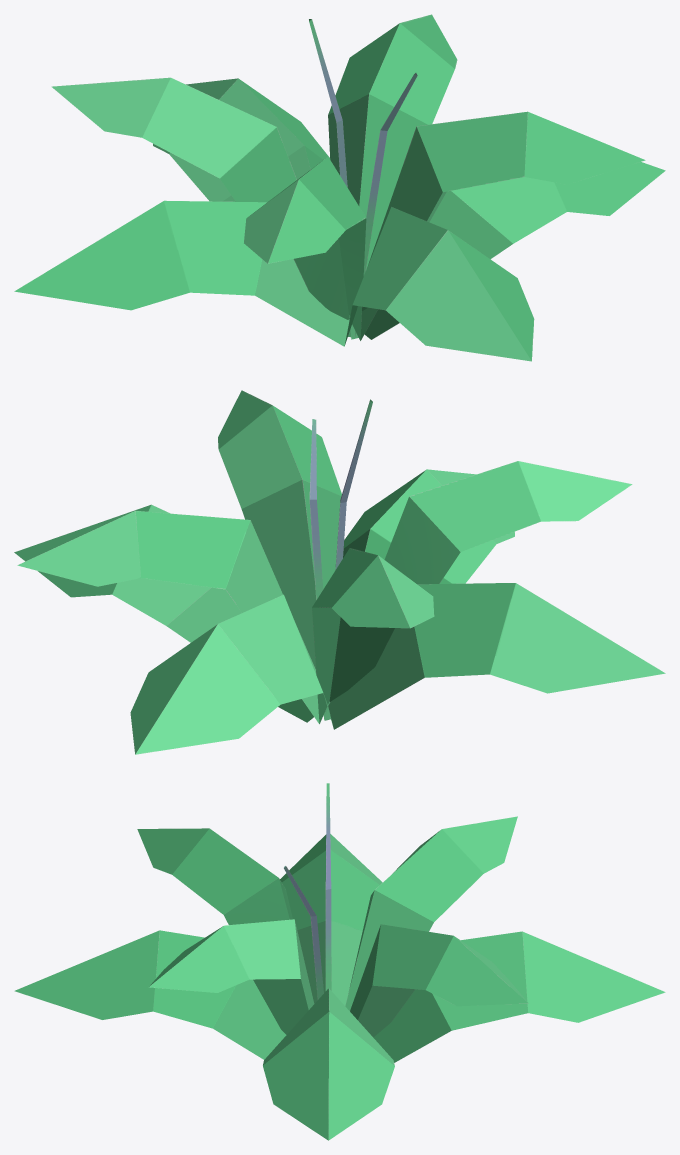
File: planta-rasteira.fbx
3 views of the same model, one above another, from view 1: azimuth 30°, elevation 25°; view 2: azimuth 150°, elevation 25°; view 3: azimuth 270°, elevation 25° (orthographic). The views are drawn at different scales.
Parts seen in each view (by area): view 1: planta-rasteira; view 2: planta-rasteira; view 3: planta-rasteira.
Part boxes in pixels (x1=…): planta-rasteira: x1=14, y1=14, x2=665, y2=361; planta-rasteira: x1=14, y1=390, x2=665, y2=754; planta-rasteira: x1=14, y1=783, x2=665, y2=1140.
Size of the model in its own units: 407 by 197 by 407.
1 material, 1 textured.
